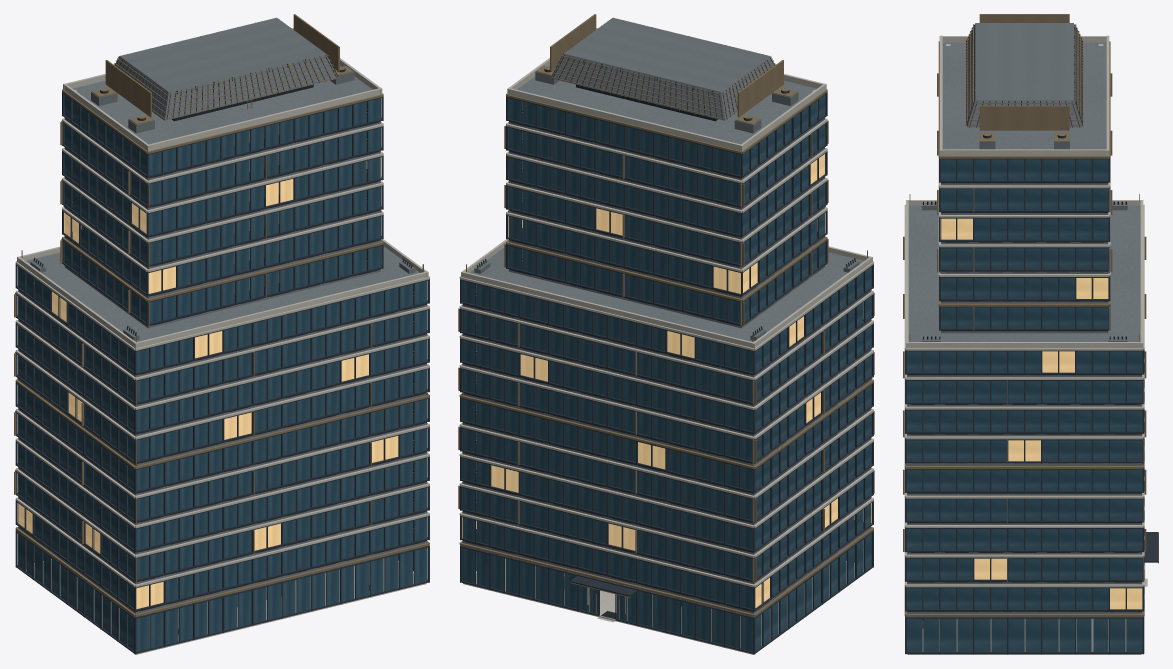
3 renders of one model, left to right at view 1: azimuth 30°, elevation 25°; view 2: azimuth 150°, elevation 25°; view 3: azimuth 270°, elevation 25°, orthographic.
Visible parts, largest first — view 1: VIS_Curtainwall_Glass__glass, VIS_Transoms__graphite, VIS_Spandrel_Bands__limestone, VIS_Primary_Mullions__graphite, VIS_Floor_Slabs__concrete, VIS_Mechanical_Crown__roof, VIS_Intermediate_Mullions__graphite, VIS_Ceiling_Suspension__shadow, VIS_Curtainwall_Glass__lit_glass, VIS_Setback_Deck__concrete, VIS_Spandrel_Bands__champagne, VIS_Spandrel_Panels__shadow (+11 smaller); view 2: VIS_Curtainwall_Glass__glass, VIS_Transoms__graphite, VIS_Spandrel_Bands__limestone, VIS_Primary_Mullions__graphite, VIS_Floor_Slabs__concrete, VIS_Mechanical_Crown__roof, VIS_Intermediate_Mullions__graphite, VIS_Curtainwall_Glass__lit_glass, VIS_Spandrel_Bands__champagne, VIS_Setback_Deck__concrete, VIS_Ceiling_Suspension__shadow, VIS_Spandrel_Panels__shadow (+11 smaller); view 3: VIS_Curtainwall_Glass__glass, VIS_Transoms__graphite, VIS_Spandrel_Bands__limestone, VIS_Setback_Deck__concrete, VIS_Mechanical_Crown__roof, VIS_Floor_Slabs__concrete, VIS_Roof_Deck__concrete, VIS_Primary_Mullions__graphite, VIS_Ceiling_Suspension__shadow, VIS_Curtainwall_Glass__lit_glass, VIS_Spandrel_Panels__shadow, VIS_Spandrel_Bands__champagne (+12 smaller).
Boxes of the visible parts, x1=… form: VIS_Curtainwall_Glass__glass: x1=18, y1=94, x2=427, y2=651; VIS_Transoms__graphite: x1=16, y1=92, x2=429, y2=653; VIS_Spandrel_Bands__limestone: x1=15, y1=118, x2=429, y2=587; VIS_Primary_Mullions__graphite: x1=15, y1=92, x2=429, y2=654; VIS_Floor_Slabs__concrete: x1=18, y1=112, x2=427, y2=613; VIS_Mechanical_Crown__roof: x1=115, y1=17, x2=338, y2=120; VIS_Intermediate_Mullions__graphite: x1=24, y1=99, x2=414, y2=649; VIS_Ceiling_Suspension__shadow: x1=26, y1=105, x2=413, y2=605; VIS_Curtainwall_Glass__lit_glass: x1=18, y1=157, x2=398, y2=609; VIS_Setback_Deck__concrete: x1=25, y1=246, x2=419, y2=342; VIS_Spandrel_Bands__champagne: x1=15, y1=89, x2=429, y2=616; VIS_Spandrel_Panels__shadow: x1=26, y1=110, x2=426, y2=611; VIS_Curtainwall_Glass__glass: x1=462, y1=94, x2=871, y2=651; VIS_Transoms__graphite: x1=460, y1=92, x2=873, y2=653; VIS_Spandrel_Bands__limestone: x1=459, y1=118, x2=873, y2=587; VIS_Primary_Mullions__graphite: x1=460, y1=92, x2=873, y2=654; VIS_Floor_Slabs__concrete: x1=462, y1=112, x2=871, y2=613; VIS_Mechanical_Crown__roof: x1=551, y1=17, x2=774, y2=120; VIS_Intermediate_Mullions__graphite: x1=475, y1=99, x2=865, y2=649; VIS_Curtainwall_Glass__lit_glass: x1=462, y1=154, x2=871, y2=607; VIS_Spandrel_Bands__champagne: x1=459, y1=89, x2=873, y2=616; VIS_Setback_Deck__concrete: x1=470, y1=248, x2=863, y2=342; VIS_Ceiling_Suspension__shadow: x1=476, y1=105, x2=863, y2=605; VIS_Spandrel_Panels__shadow: x1=462, y1=110, x2=863, y2=611; VIS_Curtainwall_Glass__glass: x1=906, y1=159, x2=1142, y2=651; VIS_Transoms__graphite: x1=905, y1=158, x2=1143, y2=653; VIS_Spandrel_Bands__limestone: x1=904, y1=158, x2=1144, y2=587; VIS_Setback_Deck__concrete: x1=908, y1=205, x2=1140, y2=341; VIS_Mechanical_Crown__roof: x1=967, y1=23, x2=1082, y2=127; VIS_Floor_Slabs__concrete: x1=907, y1=183, x2=1142, y2=613; VIS_Roof_Deck__concrete: x1=942, y1=42, x2=1106, y2=149; VIS_Primary_Mullions__graphite: x1=905, y1=157, x2=1144, y2=654; VIS_Ceiling_Suspension__shadow: x1=922, y1=159, x2=1126, y2=609; VIS_Curtainwall_Glass__lit_glass: x1=940, y1=218, x2=1142, y2=609; VIS_Spandrel_Panels__shadow: x1=907, y1=182, x2=1141, y2=611; VIS_Spandrel_Bands__champagne: x1=904, y1=41, x2=1144, y2=616.
Bounding box in the file's own units: 40.68 × 68.13 × 30.18.
Materials: 8 (8 with a texture image).
